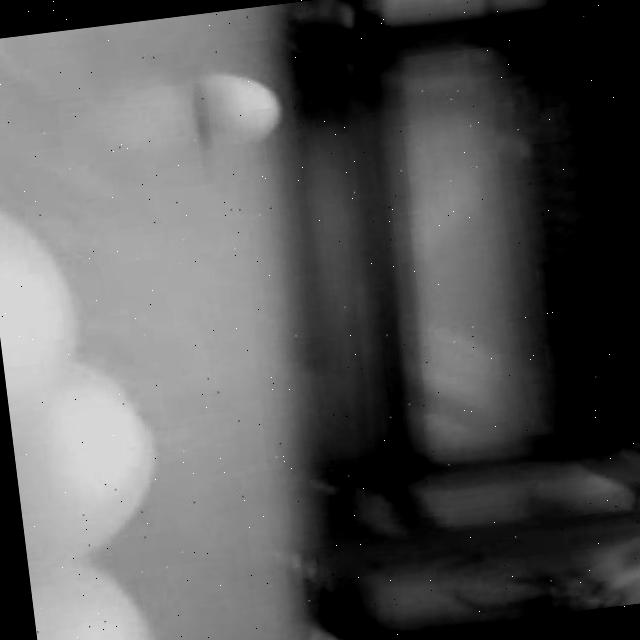ping-pong-ball: (174, 54, 286, 150)
